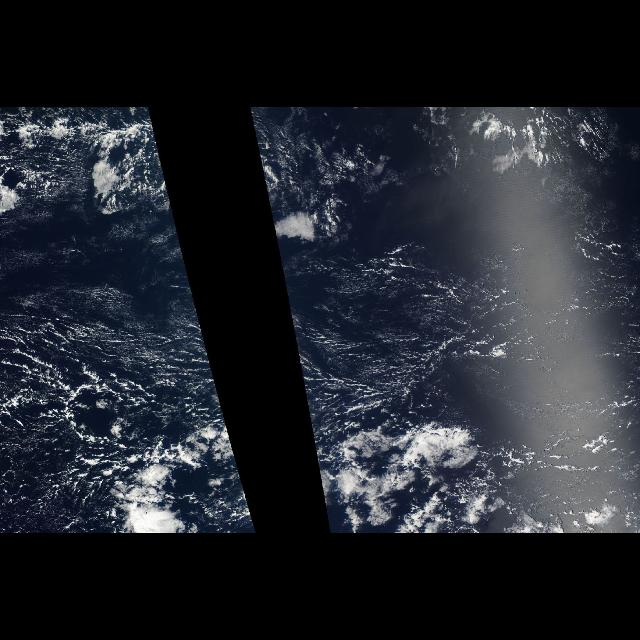Gravel: (288, 244, 546, 446), (14, 282, 220, 484)
Sugar: (278, 257, 638, 411), (3, 257, 223, 411)
